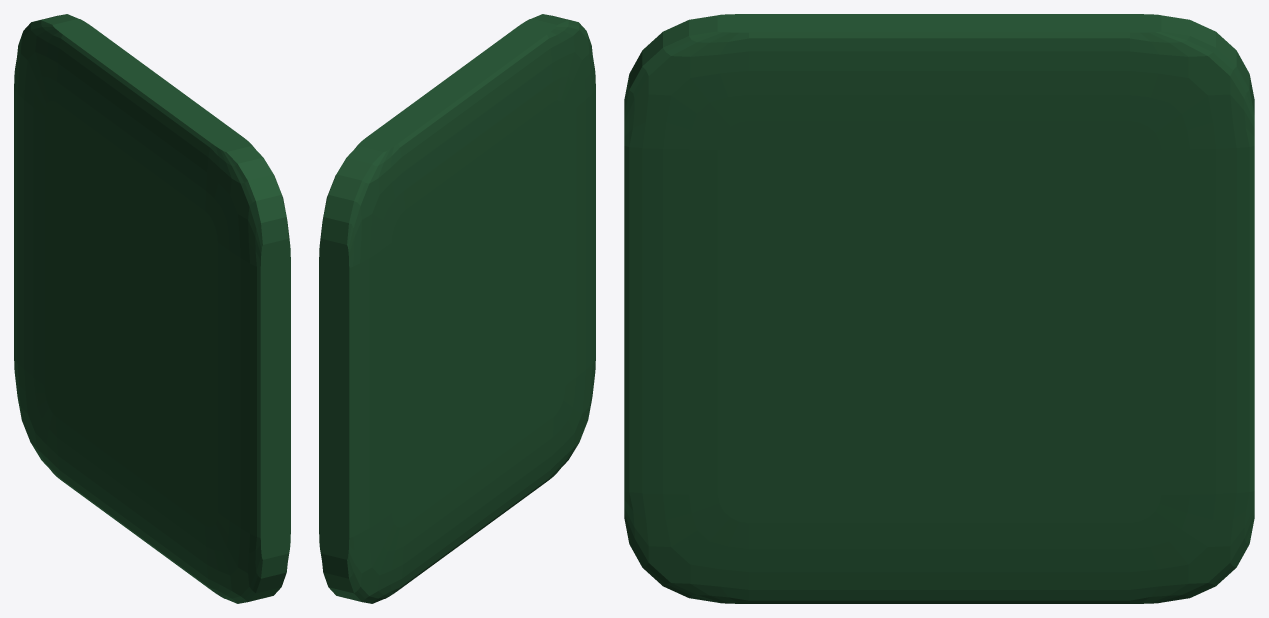
File: portfolioButton.glb
The picture shows the model from 3 angles, left to right: view 1: azimuth 30°, elevation 25°; view 2: azimuth 150°, elevation 25°; view 3: azimuth 270°, elevation 25°; orthographic projection. The views are drawn at different scales.
Parts seen in each view (by area): view 1: Cube.003; view 2: Cube.003; view 3: Cube.003.
Part boxes in pixels (x1,y1,x2,y2): Cube.003: (14,14,290,603); Cube.003: (319,14,595,603); Cube.003: (624,14,1254,603).
Bounding box in the file's own units: 0.2 × 2 × 2.
